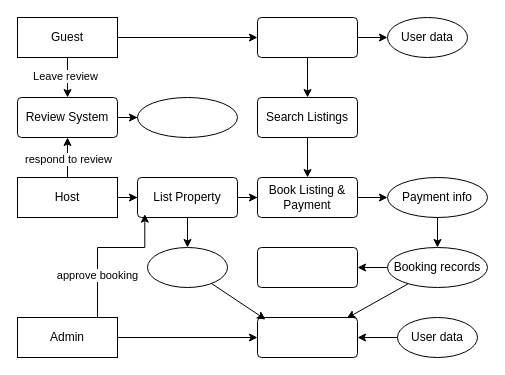
Image size: 505x375. Some labels were removed from this diagram. Each missing label, with the box of its shape:
Admin Management: (256, 316, 358, 358)
Listing data: (146, 246, 228, 288)
Manage Bookings: (256, 246, 358, 288)
Review data: (136, 96, 238, 138)
User registration and login: (256, 16, 358, 58)
